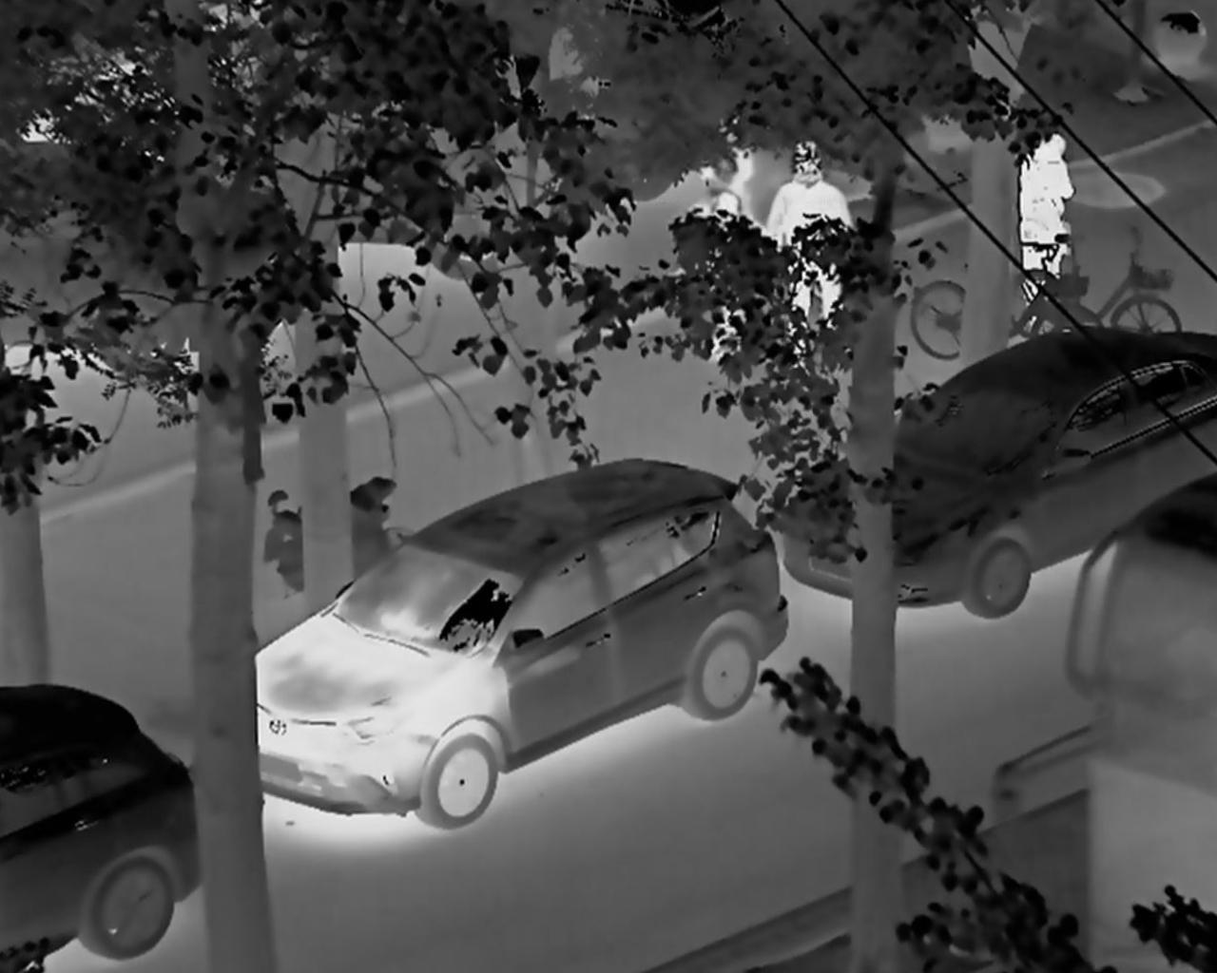person: (768, 140, 851, 346), (685, 140, 756, 361), (1017, 124, 1079, 301)
